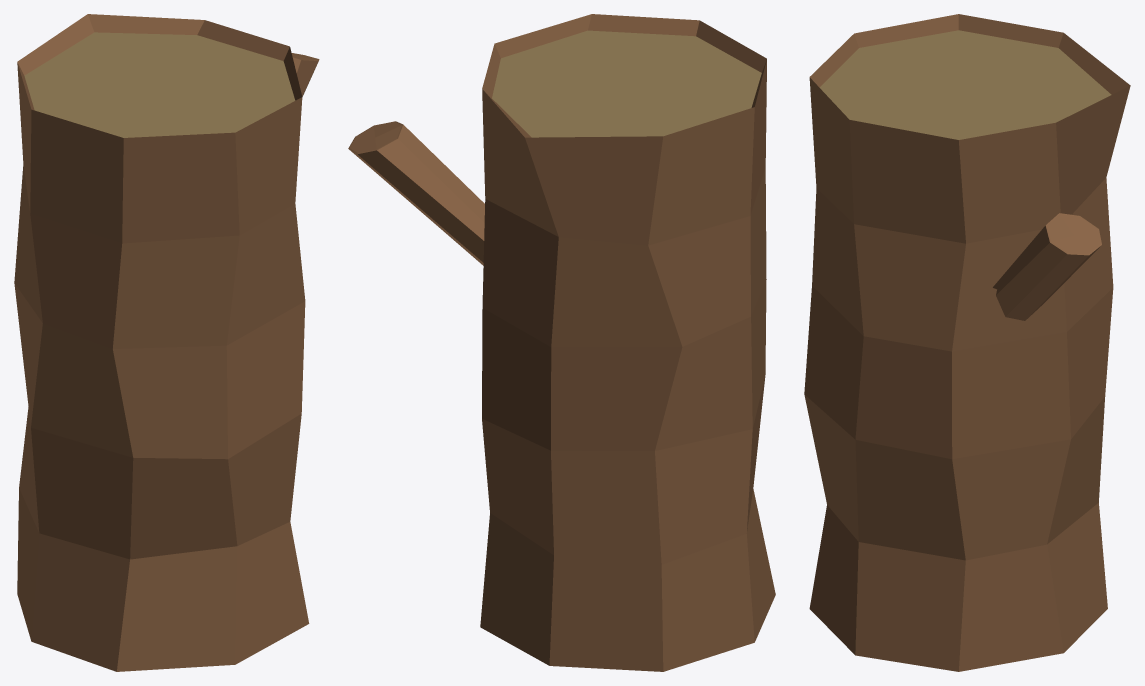
File: Log.fbx
The picture shows the model from 3 angles, left to right: view 1: azimuth 30°, elevation 25°; view 2: azimuth 150°, elevation 25°; view 3: azimuth 270°, elevation 25°; orthographic projection.
Visible parts, largest first — view 1: Log; view 2: Log; view 3: Log.
Part boxes in pixels (<box>): Log: <box>14,14,319,671</box>; Log: <box>348,14,775,671</box>; Log: <box>804,14,1130,671</box>.
Bounding box in the file's own units: 18.21 × 27.04 × 15.03.
